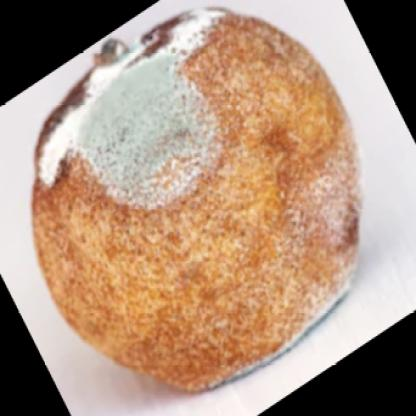rotten: (32, 5, 358, 396)
